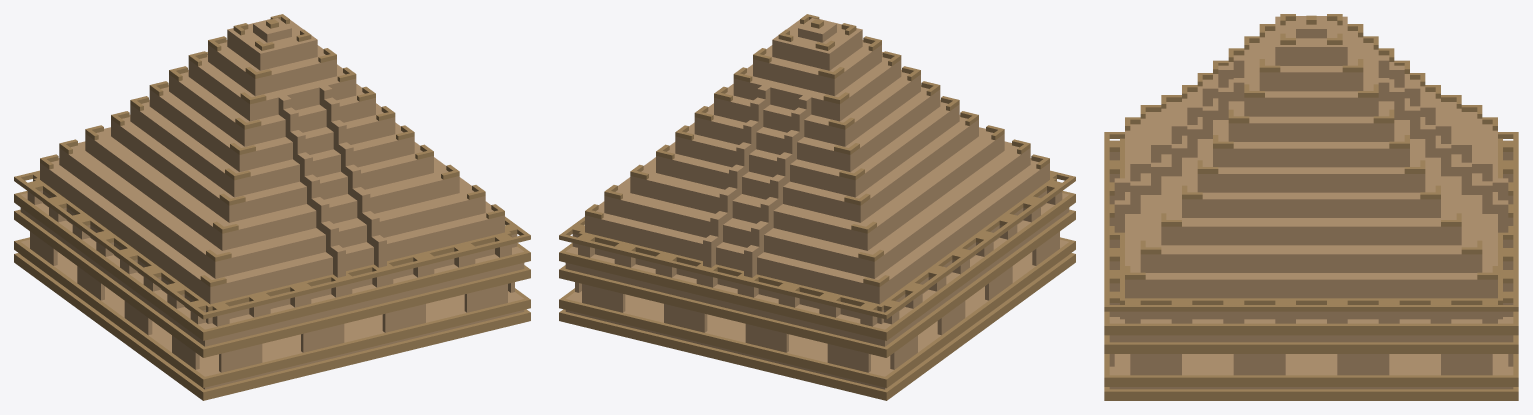
Rendered from Background_B_house_07.FBX.
3 views of the same model, side by side, from view 1: azimuth 30°, elevation 25°; view 2: azimuth 150°, elevation 25°; view 3: azimuth 270°, elevation 25° (orthographic). The views are drawn at different scales.
Visible parts, largest first — view 1: untitled-12; view 2: untitled-12; view 3: untitled-12.
Boxes of the visible parts, <box> form: untitled-12: <box>14,14,530,400</box>; untitled-12: <box>559,14,1075,400</box>; untitled-12: <box>1104,14,1518,400</box>.
Bounding box in the file's own units: 8 × 6.3 × 8.
1 material, 1 textured.
